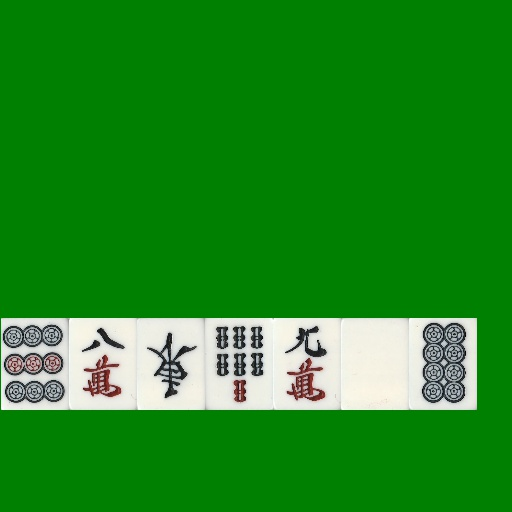7s: (205, 318, 273, 410)
8m: (69, 318, 137, 410)
8p: (409, 318, 477, 410)
9m: (273, 318, 341, 410)
9p: (1, 318, 69, 410)
east: (137, 318, 205, 410)
white: (341, 318, 409, 410)
